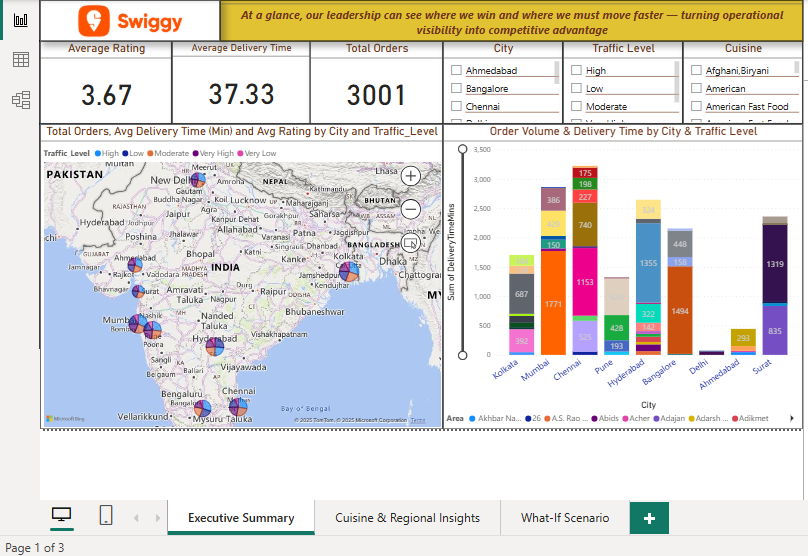

Layout of this report page (visuals, bound fields, positions):
{"tool":"powerbi","page":{"name":"Executive Summary","canvas":[1280,720],"ordinal":0},"visuals":[{"type":"card","title":"Average Rating","fields":{"Values":["Swiggy_Data.Avg Rating"]},"box":[0,68.8,221.4,139.2],"z":0},{"type":"card","title":"Average Delivery Time ","fields":{"Values":["Swiggy_Data.Avg Delivery Time"]},"box":[221.4,68.8,231.5,139.2],"z":1000},{"type":"card","title":"Total Orders","fields":{"Values":["Swiggy_Data.Total Orders"]},"box":[452.9,68.8,223.1,139.2],"z":2000},{"type":"slicer","title":"City","fields":{"Values":["Swiggy_Data.City"]},"box":[676.1,68.8,201.3,139.2],"z":3000},{"type":"slicer","title":"Traffic Level","fields":{"Values":["Swiggy_Data.Traffic_Level"]},"box":[877.4,68.8,201.3,139.2],"z":4000},{"type":"slicer","title":"Cuisine","fields":{"Values":["Swiggy_Data.FoodType"]},"box":[1078.7,68.8,201.3,139.2],"z":5000},{"type":"textbox","box":[302,0,978,68.8],"z":6000},{"type":"image","box":[0,0,302,68.8],"z":7000},{"type":"map","fields":{"Category":["Swiggy_Data.City"],"Size":["Swiggy_Data.Total Orders"],"Series":["Swiggy_Data.Traffic_Level"]},"box":[0,208,676.1,511.7],"z":8000},{"type":"columnChart","title":"Order Volume & Delivery Time by City & Traffic Level","fields":{"Category":["Swiggy_Data.City"],"Series":["Swiggy_Data.Area"],"Y":["Sum(Swiggy_Data.DeliveryTimeMins)"]},"box":[676.1,208,603.9,511.7],"z":9000}]}

Visuals, with their boxes in screenshot pixels (x1, y1, x2, y2):
"Average Rating" card: bbox=(36, 39, 169, 123)
"Average Delivery Time " card: bbox=(169, 39, 308, 123)
"Total Orders" card: bbox=(308, 39, 442, 123)
"City" slicer: bbox=(442, 39, 563, 123)
"Traffic Level" slicer: bbox=(563, 39, 683, 123)
"Cuisine" slicer: bbox=(683, 39, 804, 123)
textbox: bbox=(217, 0, 804, 39)
image: bbox=(36, 0, 217, 39)
map - Swiggy_Data.City x Swiggy_Data.Total Orders: bbox=(36, 123, 442, 430)
"Order Volume & Delivery Time by City & Traffic Level" columnChart: bbox=(442, 123, 804, 430)
